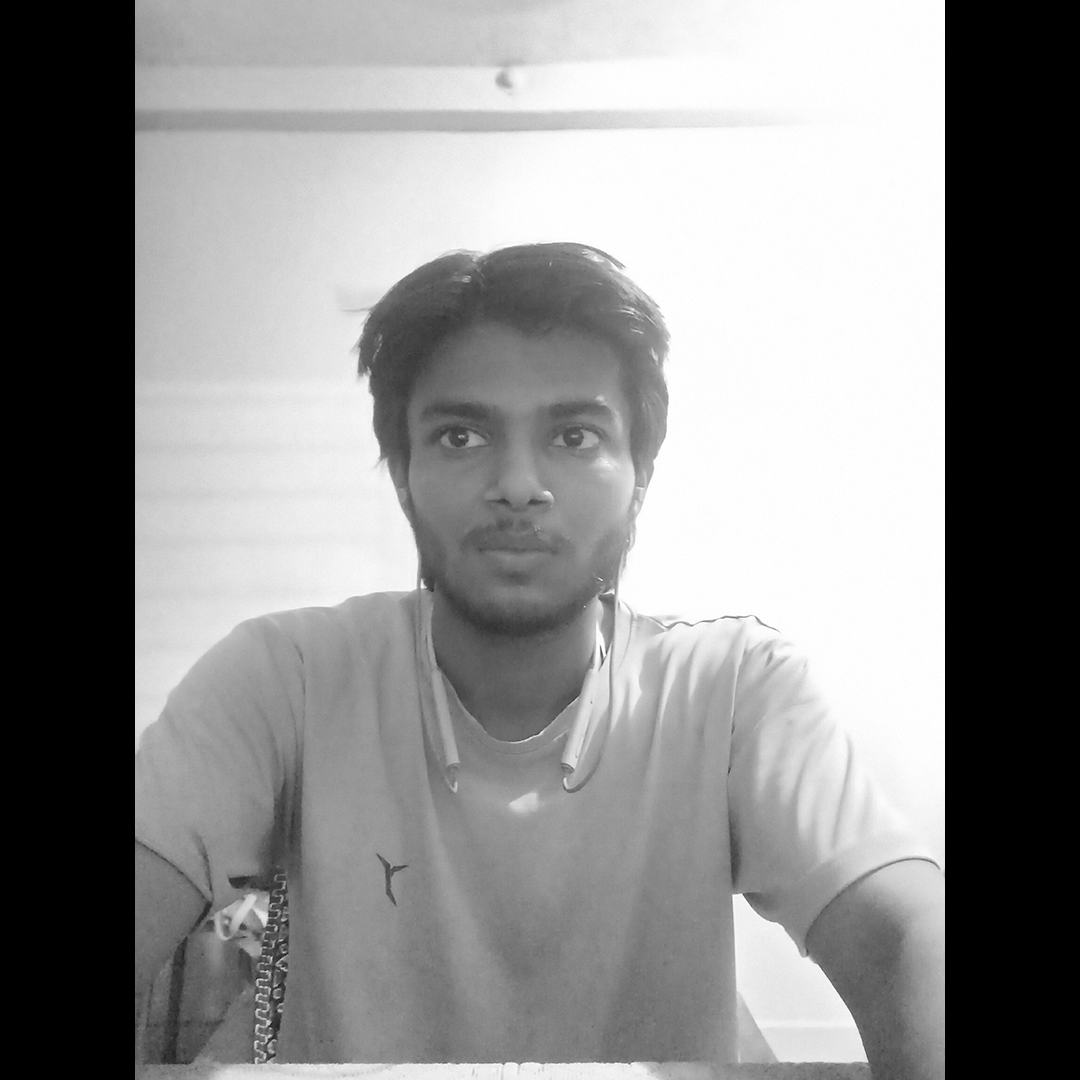Focused: (187, 117, 878, 1013)
